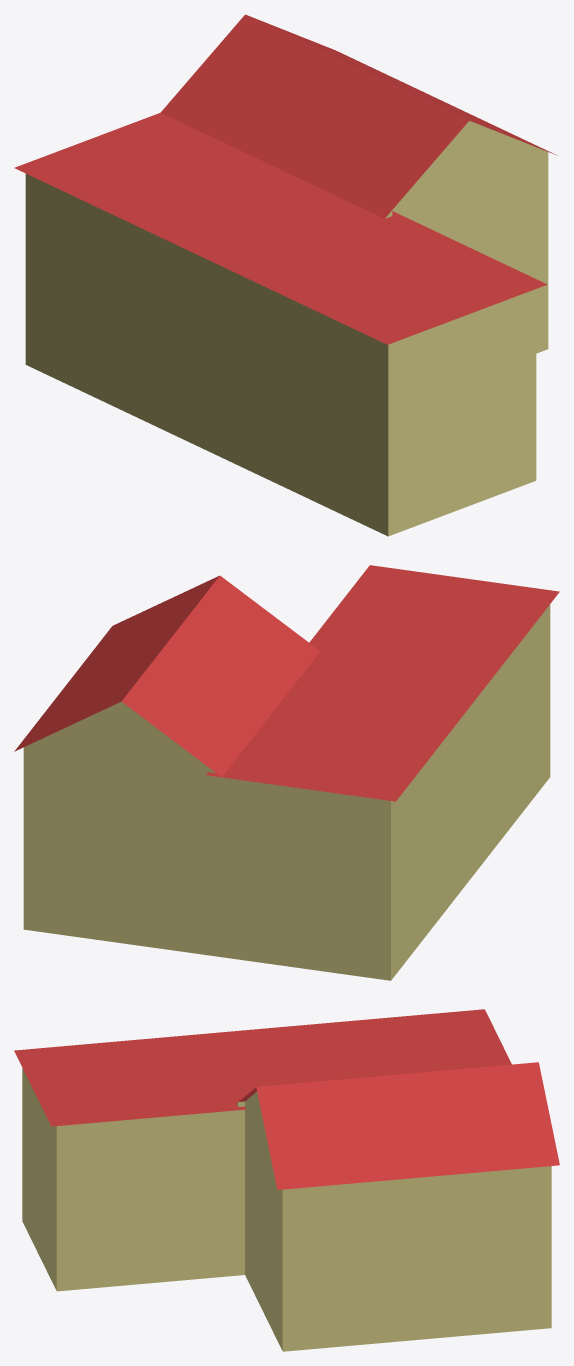
The picture shows the model from 3 angles, top to bottom: view 1: azimuth 30°, elevation 25°; view 2: azimuth 150°, elevation 25°; view 3: azimuth 270°, elevation 25°; orthographic projection. The views are drawn at different scales.
Size of the model in its own units: 15.04 by 19.53 by 8.89.
